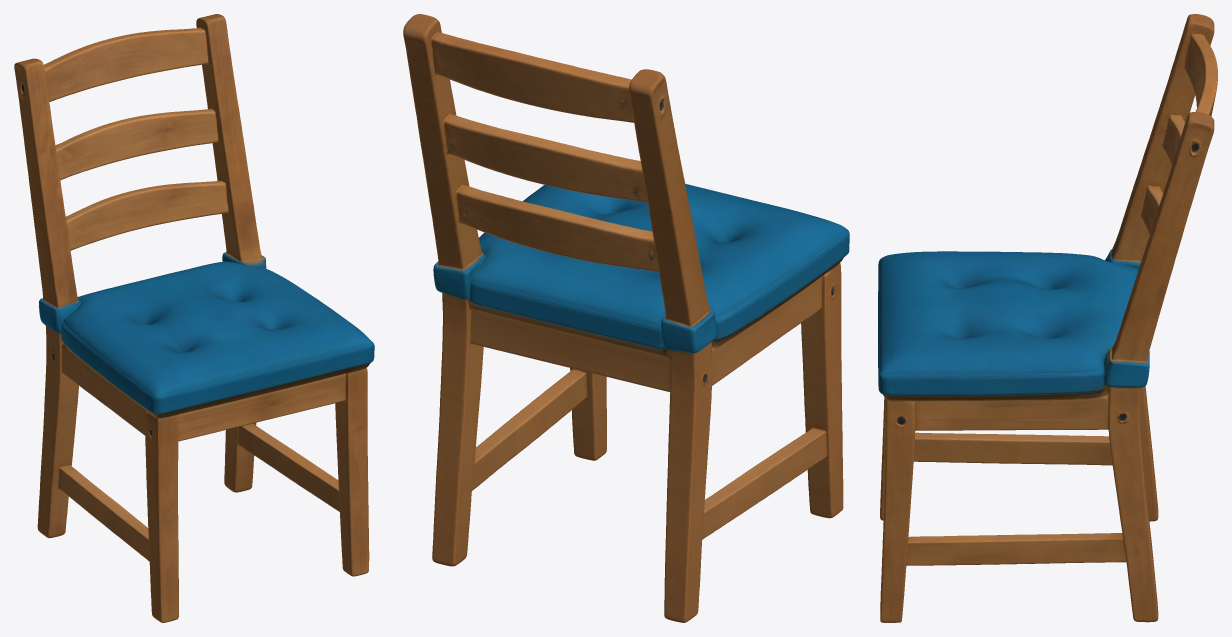
Rendered from chair-dense.glb.
The picture shows the model from 3 angles, left to right: view 1: azimuth 30°, elevation 25°; view 2: azimuth 150°, elevation 25°; view 3: azimuth 270°, elevation 25°; orthographic projection. The views are drawn at different scales.
Size of the model in its own units: 0.9828 by 1.91 by 1.18.
Materials: 1 (1 with a texture image).
